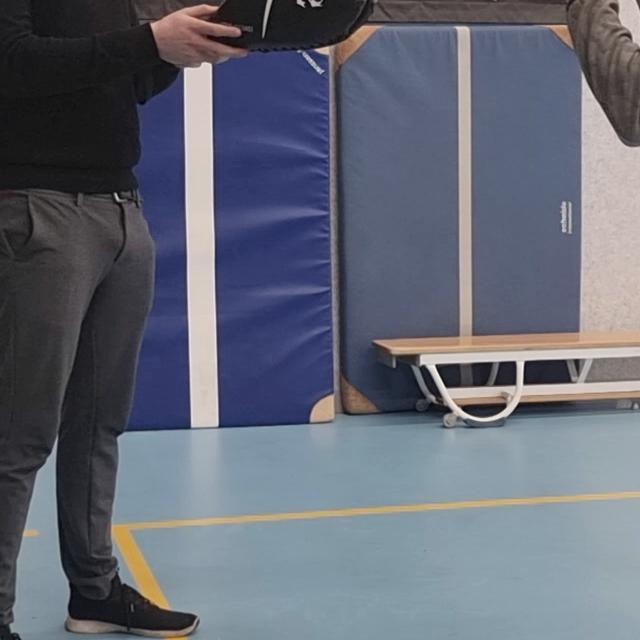paddle: (206, 0, 379, 50)
